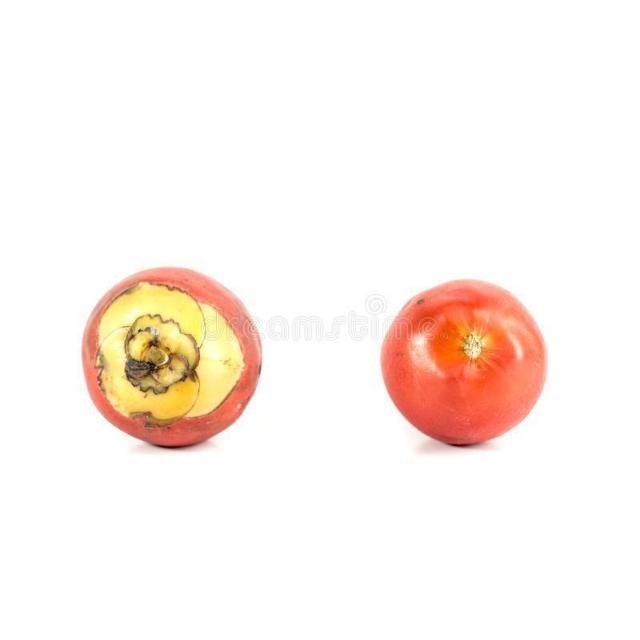good: (80, 266, 266, 450), (378, 279, 550, 449)
